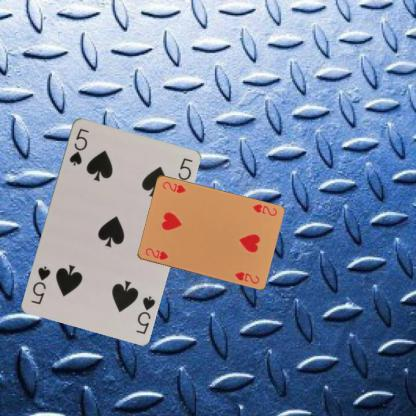2h: (249, 202, 278, 217), (142, 246, 169, 261)
5s: (66, 125, 90, 167), (133, 293, 156, 335)
